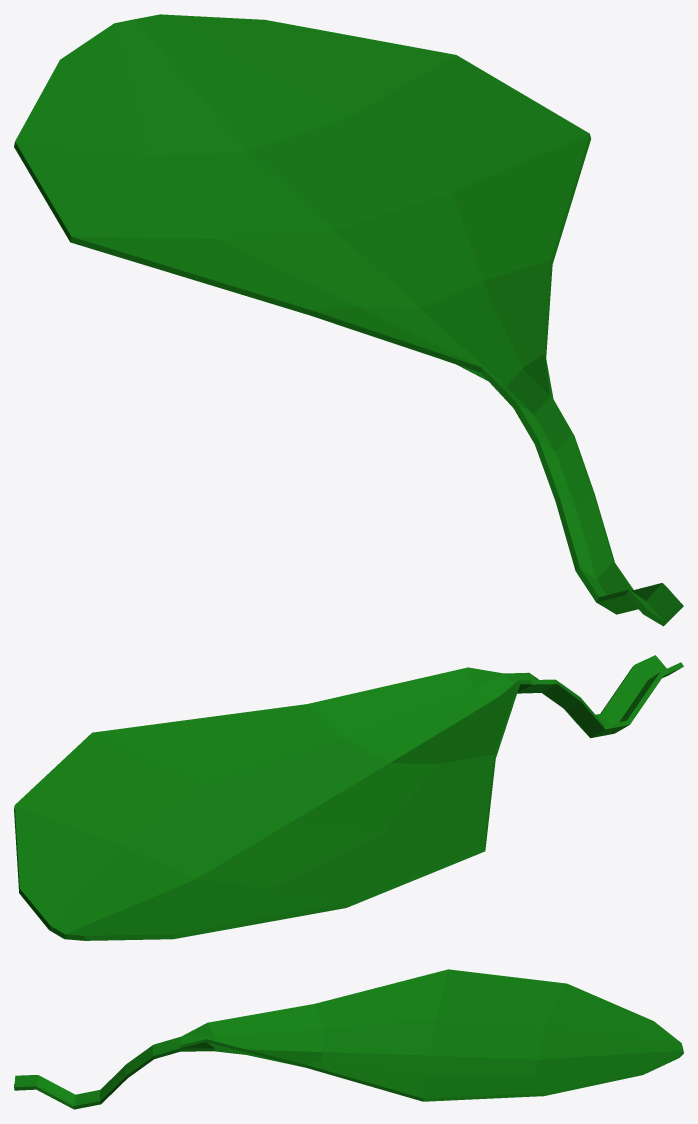
The model's file is LeafPlat.fbx.
3 views of the same model, one above another, from view 1: azimuth 30°, elevation 25°; view 2: azimuth 150°, elevation 25°; view 3: azimuth 270°, elevation 25° (orthographic). The views are drawn at different scales.
Parts seen in each view (by area): view 1: Leaf.004; view 2: Leaf.004; view 3: Leaf.004.
Part boxes in pixels (box(x1,y1,x2,y2)): Leaf.004: box(14, 14, 683, 626); Leaf.004: box(14, 655, 683, 940); Leaf.004: box(14, 969, 683, 1109).
Size of the model in its own units: 153 by 49.42 by 334.
